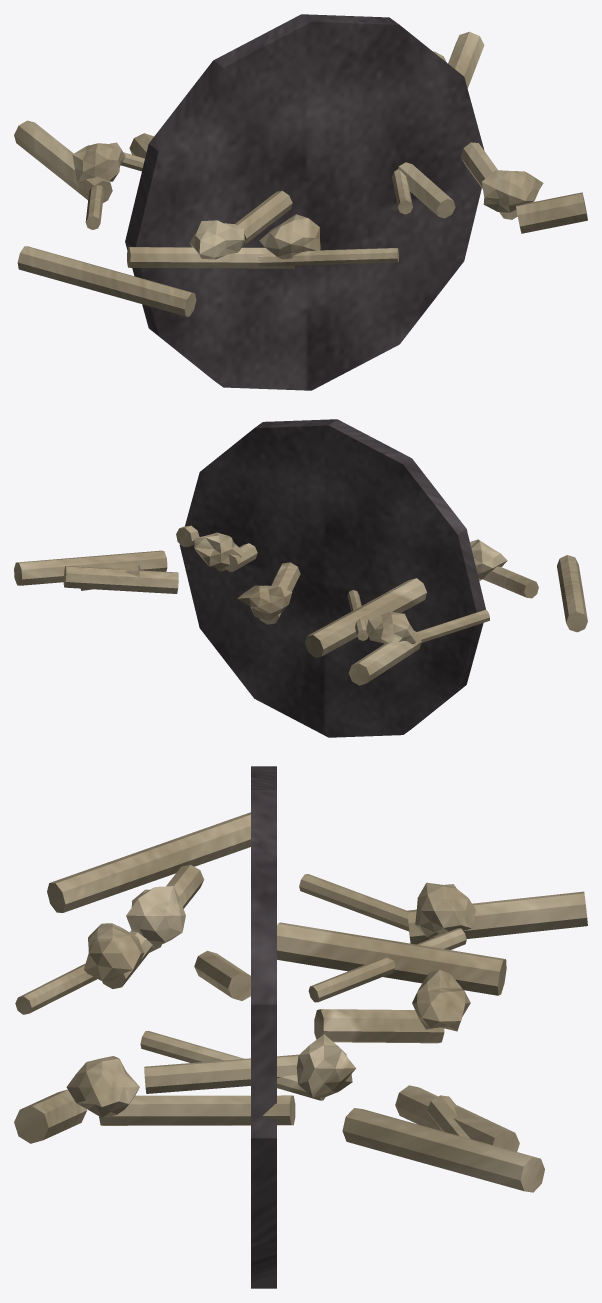
File: 0232_bone_heap_07.glb
The picture shows the model from 3 angles, top to bottom: view 1: azimuth 30°, elevation 25°; view 2: azimuth 150°, elevation 25°; view 3: azimuth 270°, elevation 25°; orthographic projection. The views are drawn at different scales.
Parts seen in each view (by area): view 1: ash, bone; view 2: ash, bone; view 3: bone, ash.
Part boxes in pixels (bbox=[...]): ash: bbox=[125, 14, 484, 390]; bone: bbox=[14, 31, 587, 316]; ash: bbox=[179, 419, 485, 737]; bone: bbox=[14, 525, 587, 685]; bone: bbox=[14, 812, 587, 1192]; ash: bbox=[251, 766, 276, 1288].
Size of the model in its own units: 2.6 by 1.6 by 1.75.
2 materials, 2 textured.
